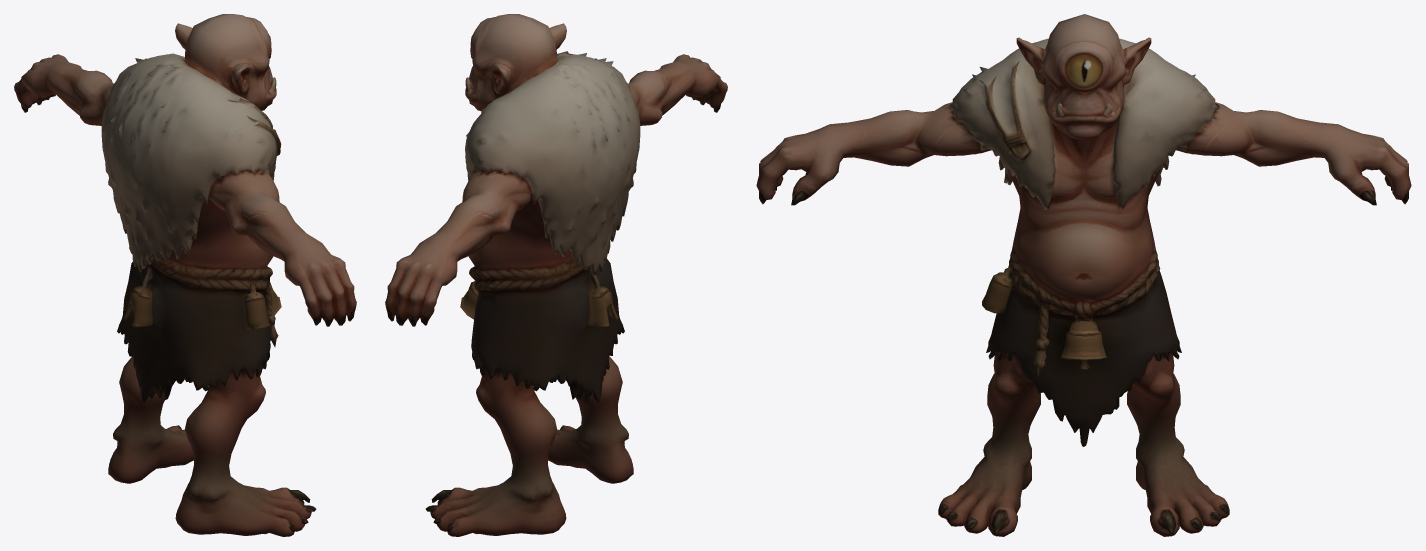
File: char_polyphemos_boss_01_mesh_10000.glb
3 renders of one model, left to right at view 1: azimuth 30°, elevation 25°; view 2: azimuth 150°, elevation 25°; view 3: azimuth 270°, elevation 25°, orthographic. The views are drawn at different scales.
Parts seen in each view (by area): view 1: base_model_path; view 2: base_model_path; view 3: base_model_path.
Part boxes in pixels (x1,y1,x2,y2): base_model_path: (14,14,356,536); base_model_path: (385,14,727,536); base_model_path: (756,14,1411,536).
Bounding box in the file's own units: 0.2916 × 0.8454 × 1.
Materials: 1 (1 with a texture image).
